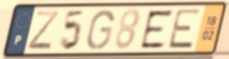5: (57, 8, 87, 52)
8: (113, 7, 142, 52)
E: (166, 8, 203, 51), (139, 8, 175, 50)
G: (85, 9, 116, 52)
Z: (25, 10, 61, 52)
